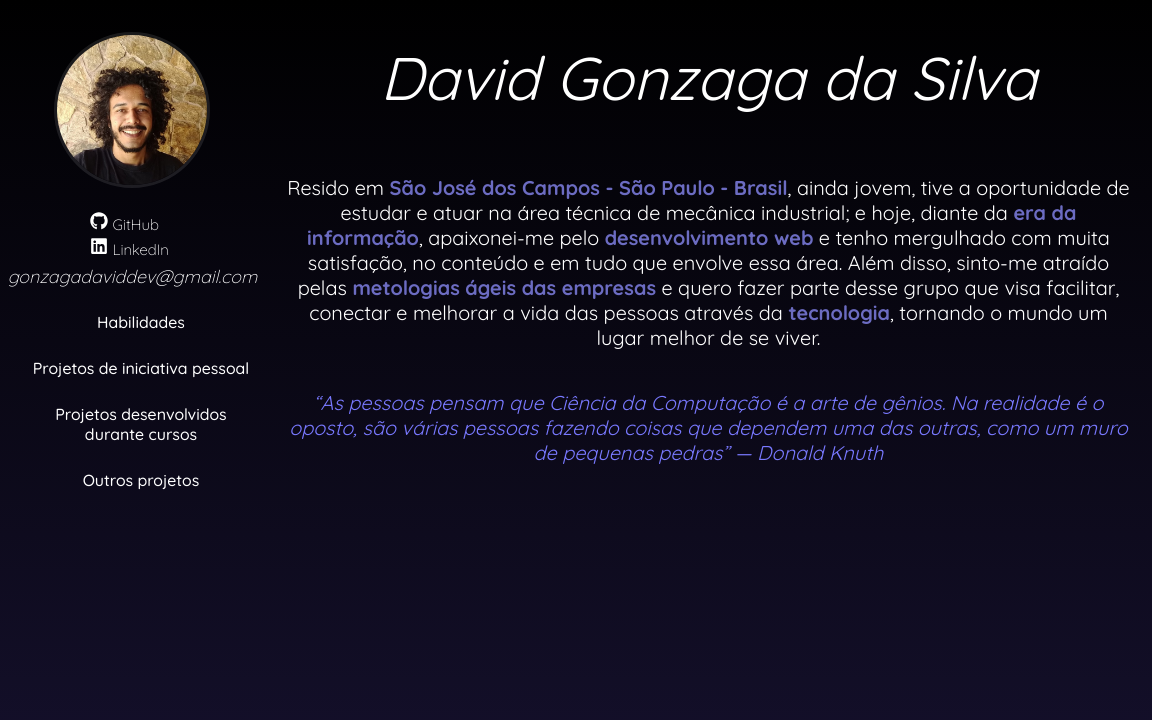
Scenario: teste rotas e rederizacao da aplicacao › verifica a renderizacao da pagina de projetos pessoais
Step 1. Click the link "Projetos de iniciativa pessoal" → (141, 368), box [33,358,249,378]
(page scrolled)
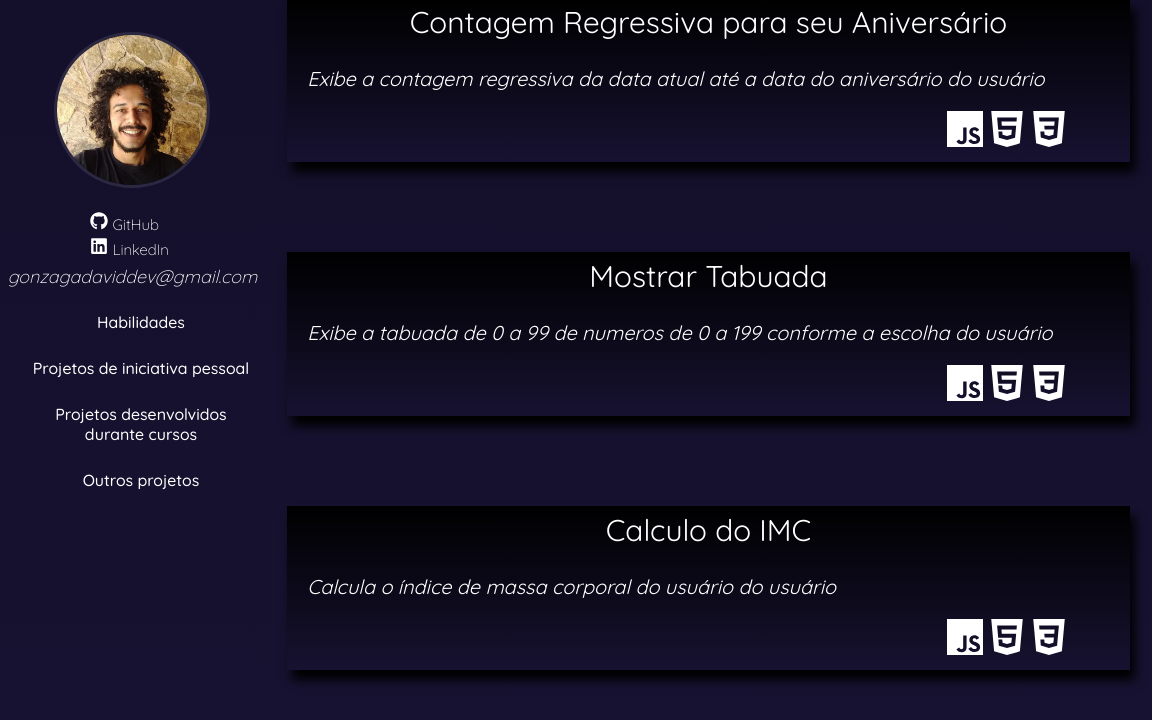
Expected: the heading "Contagem Regressiva para seu Aniversário" is shown, [410,3,1007,41]
Expected: the text "Exibe a contagem regressiva da data atual até a data do aniversário do usuário" is shown, [307,66,1044,91]
Expected: the heading "Mostrar Tabuada" is shown, [589,257,828,295]
